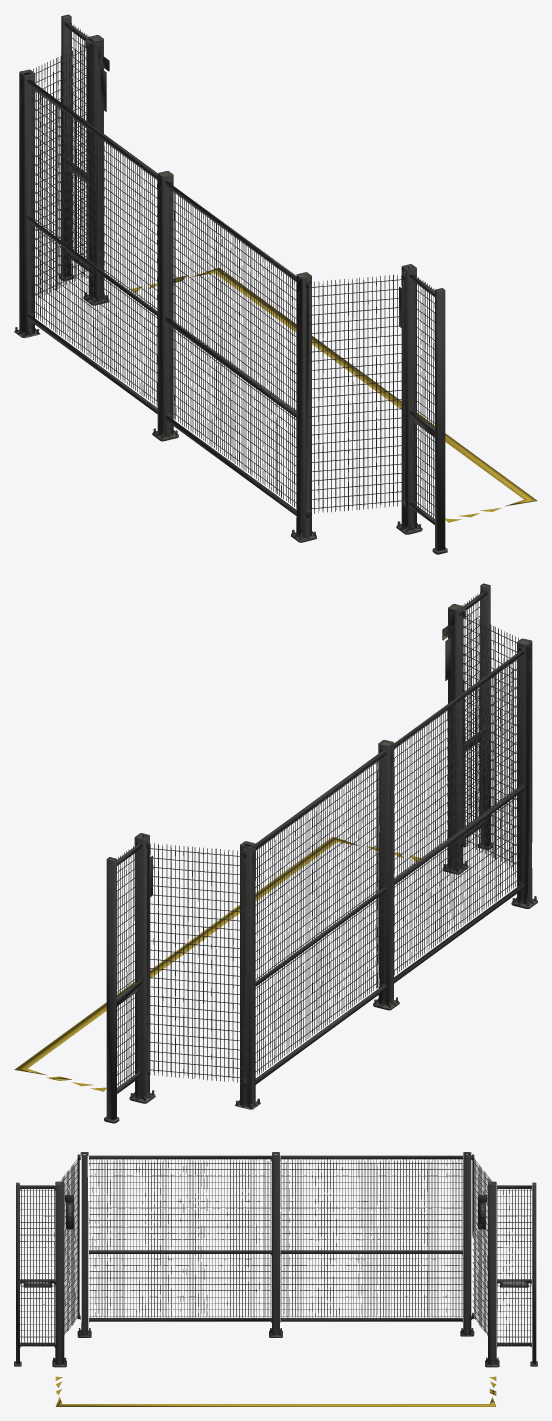
Rendered from fence_b.glb.
3 views of the same model, one above another, from view 1: azimuth 30°, elevation 25°; view 2: azimuth 150°, elevation 25°; view 3: azimuth 270°, elevation 25° (orthographic). The views are drawn at different scales.
Visible parts, largest first — view 1: body_02_mesh_00, body_01_mesh_00, body_03_mesh_00, tape_01_mesh_00; view 2: body_02_mesh_00, body_03_mesh_00, body_01_mesh_00, tape_01_mesh_00; view 3: body_02_mesh_00, body_03_mesh_00, body_01_mesh_00, tape_01_mesh_00.
Part boxes in pixels (box(x1,y1,x2,y2)): body_02_mesh_00: box(27, 78, 296, 515); body_01_mesh_00: box(291, 264, 447, 554); body_03_mesh_00: box(14, 14, 109, 338); tape_01_mesh_00: box(130, 268, 537, 522); body_02_mesh_00: box(255, 647, 524, 1084); body_03_mesh_00: box(104, 833, 260, 1123); body_01_mesh_00: box(442, 583, 537, 908); tape_01_mesh_00: box(14, 836, 421, 1091); body_02_mesh_00: box(89, 1152, 463, 1337); body_03_mesh_00: box(460, 1152, 537, 1367); body_01_mesh_00: box(14, 1152, 91, 1367); tape_01_mesh_00: box(55, 1376, 496, 1406).
Bounding box in the file's own units: 2.04 × 2.3 × 6.03.
Materials: 34 (34 with a texture image).
